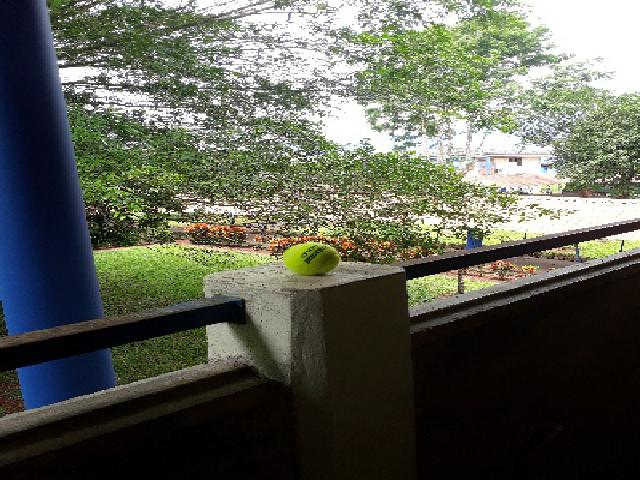Ball: (283, 242, 333, 274)
